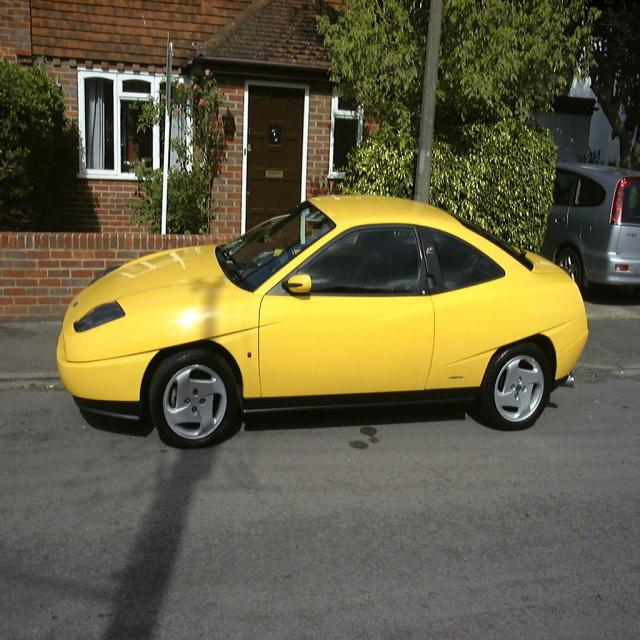car: (61, 192, 587, 446)
